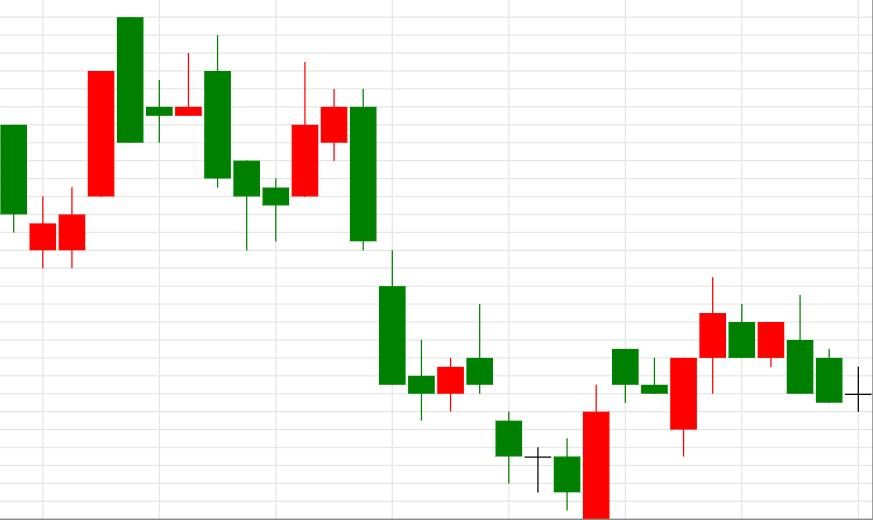bullish_engulfing_rise: (350, 90, 609, 518)
hammer_rise: (117, 16, 260, 251)
